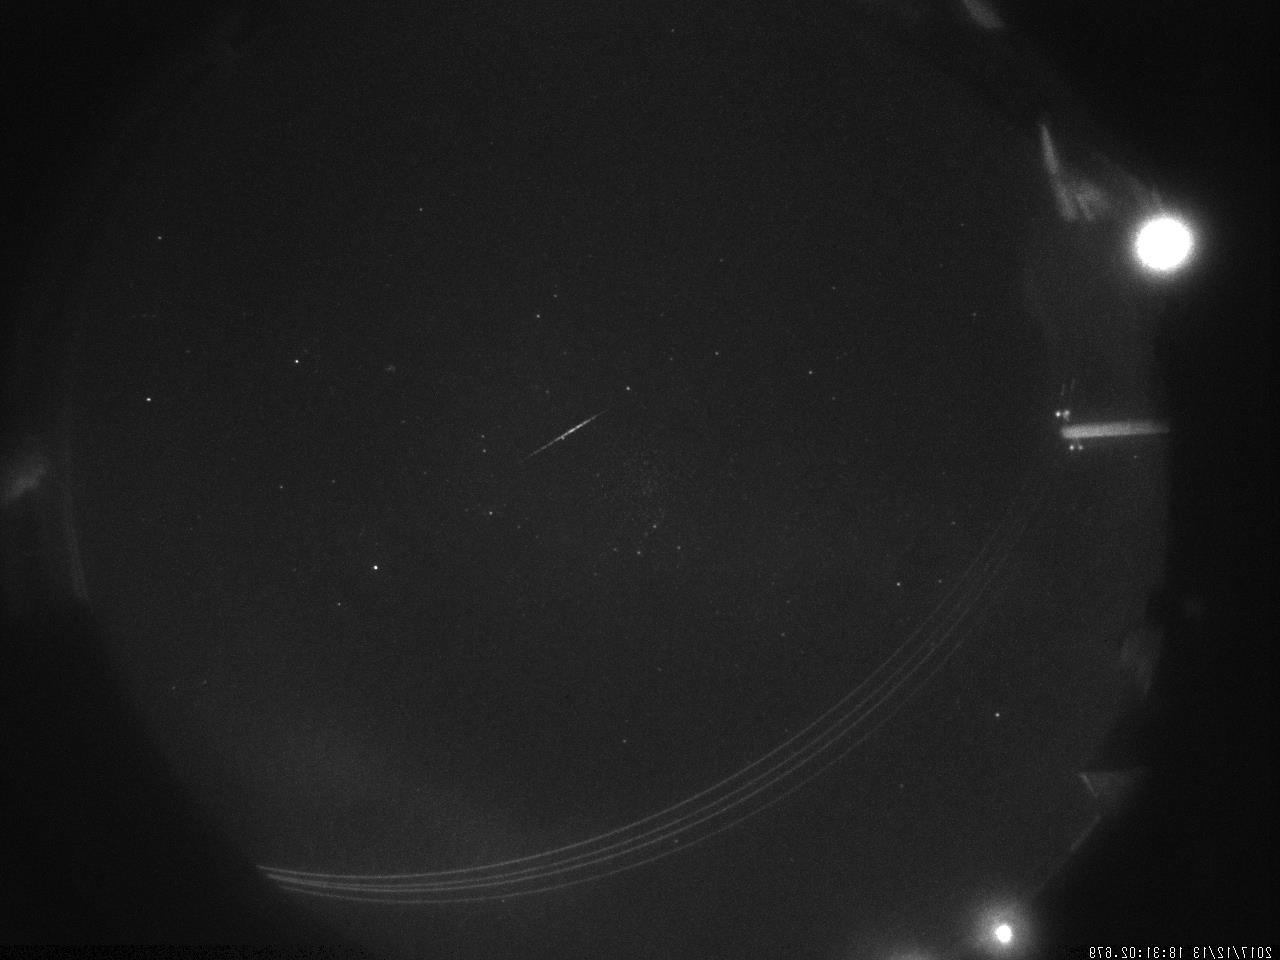meteor: (510, 405, 614, 473)
